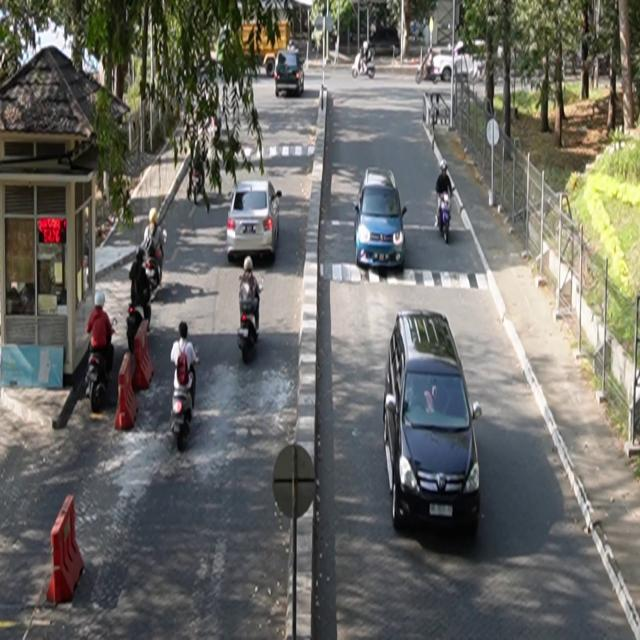car: (384, 309, 483, 535), (354, 167, 408, 271), (227, 180, 283, 262), (276, 51, 306, 98)
